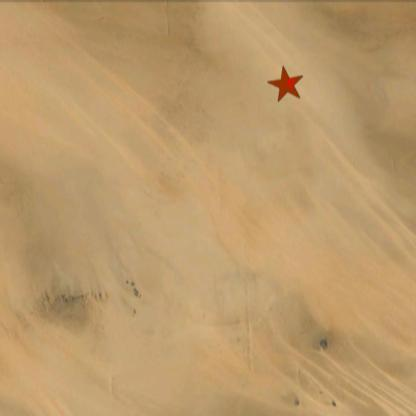D: (284, 75, 296, 91)
star: (265, 62, 306, 103)
